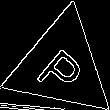P_NE: (31, 35, 91, 97)
